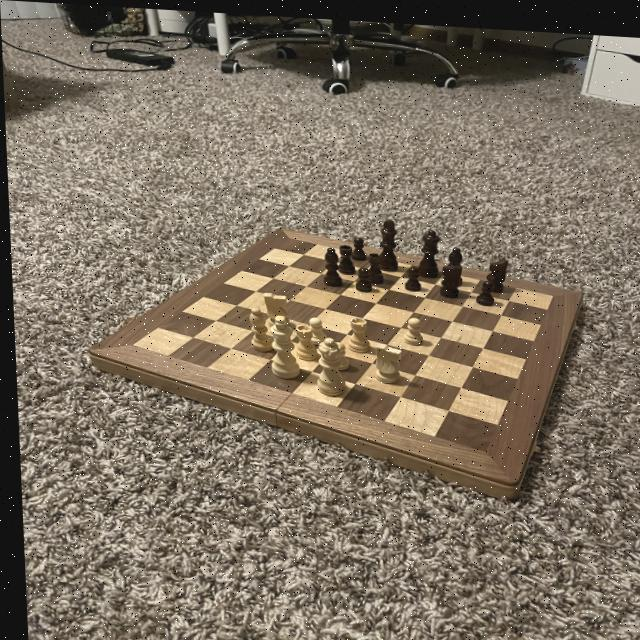bishop: (442, 239, 464, 282), (319, 243, 341, 284)
black-bishop: (372, 212, 400, 269)
black-king: (477, 250, 511, 288), (435, 258, 462, 295)
black-knight: (471, 273, 495, 302), (350, 261, 372, 289), (400, 260, 422, 288), (347, 231, 368, 258)
black-pawn: (412, 224, 441, 274)
black-queen: (362, 247, 386, 280), (333, 238, 355, 271)
black-rook: (244, 303, 272, 350)
white-bishop: (263, 310, 300, 378)
white-king: (368, 336, 403, 381), (259, 287, 292, 328)
white-knight: (398, 311, 422, 342), (324, 336, 345, 369), (303, 312, 325, 343)
white-pawn: (309, 332, 345, 395)
white-queen: (343, 311, 371, 350), (290, 320, 316, 358)
